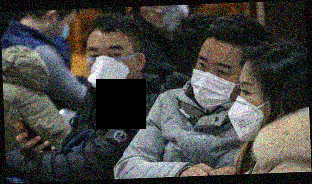with_mask: (189, 53, 236, 112), (225, 79, 265, 144), (87, 44, 132, 96), (153, 5, 190, 38), (48, 17, 75, 50)
